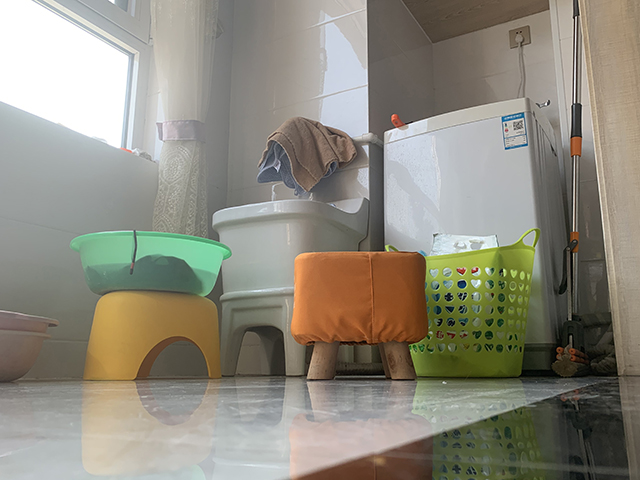stool: (289, 250, 430, 382), (82, 290, 223, 382)
